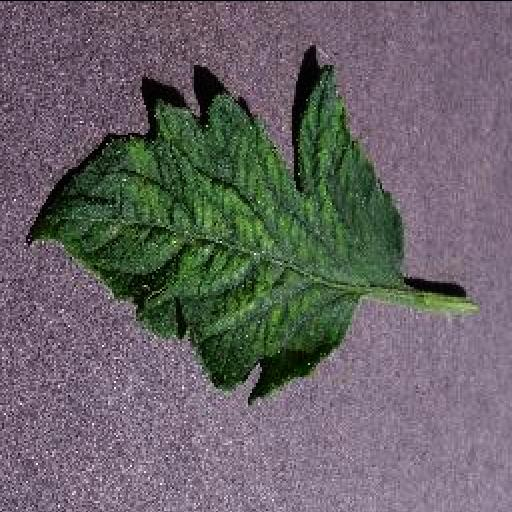disease_tomato: (27, 62, 405, 398)
